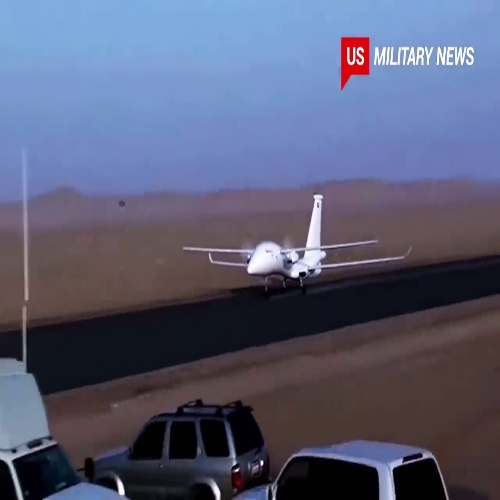uav: (183, 191, 407, 295)
